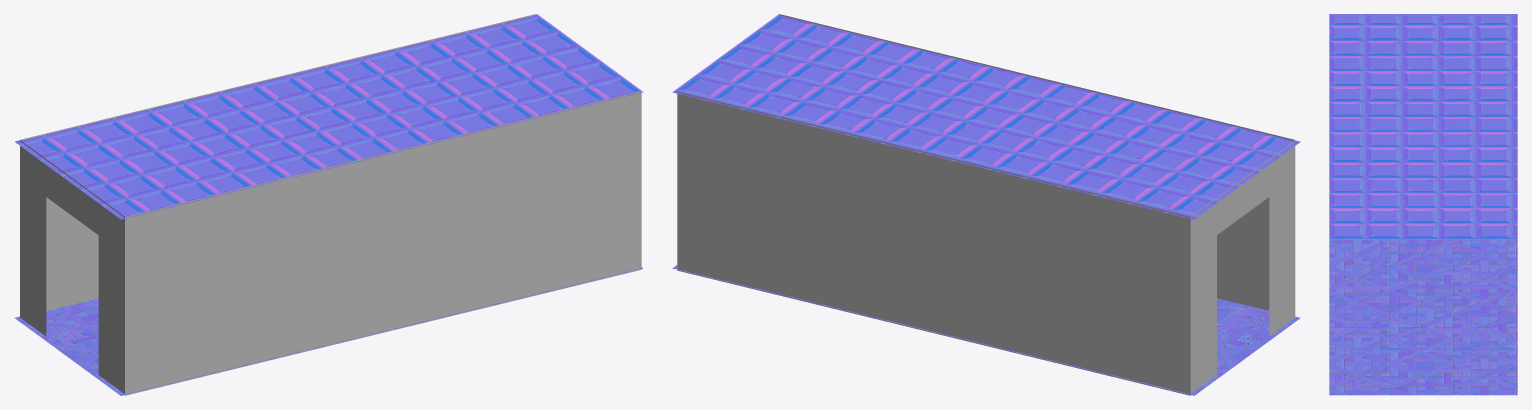
Rendered from basic_deadend.fbx.
3 renders of one model, left to right at view 1: azimuth 30°, elevation 25°; view 2: azimuth 150°, elevation 25°; view 3: azimuth 270°, elevation 25°, orthographic. The views are drawn at different scales.
Parts seen in each view (by area): view 1: cross; view 2: cross; view 3: cross.
Boxes of the visible parts, left/top/right/bottom form: cross: left=14, top=14, right=643, bottom=395; cross: left=672, top=14, right=1300, bottom=395; cross: left=1329, top=14, right=1517, bottom=395.
Bounding box in the file's own units: 927 × 304 × 328.
